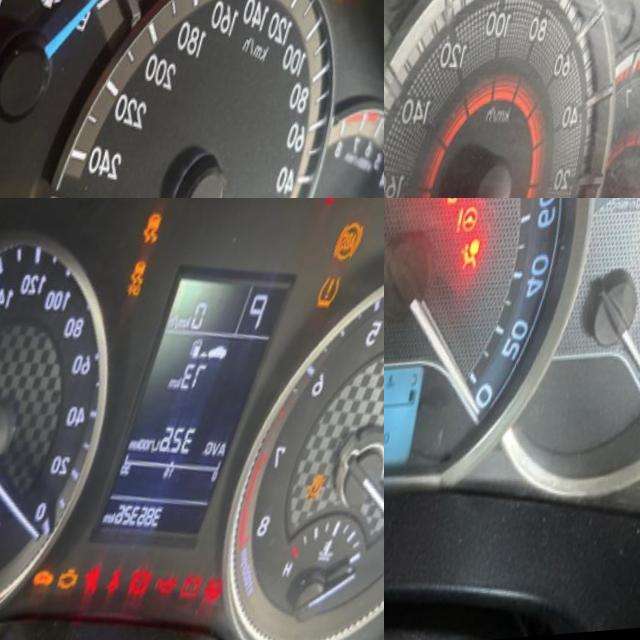Doors: (324, 198, 357, 214)
Electronic Power Steering: (461, 202, 492, 242)
security: (45, 566, 79, 597)
